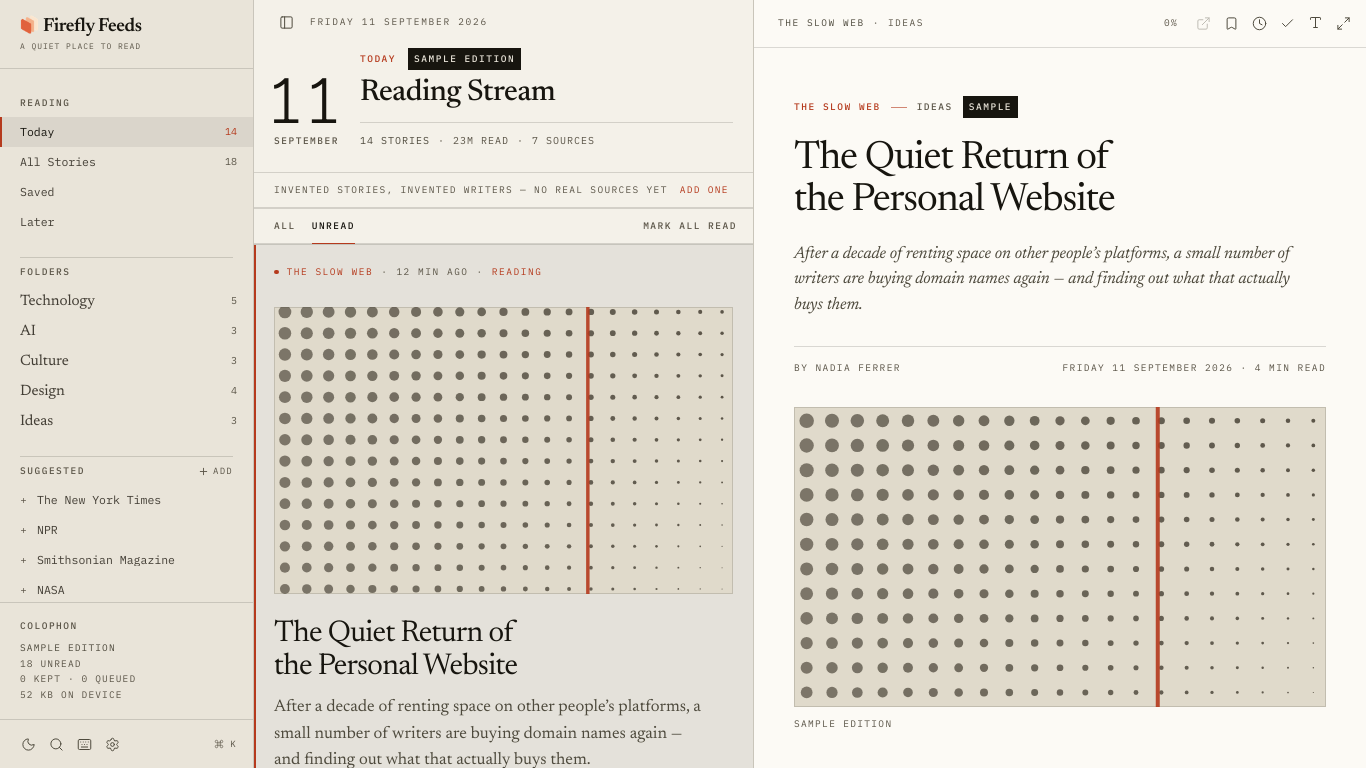
Test: article classification › asks a local Ollama directly from a deployed page, and says so when CORS stops it
Expected: the heading "Reading Stream" is shown, [360,78,555,108]
Click the button named "Settings". click: (112, 744)
box: [100,732,124,756]
(page scrolled)
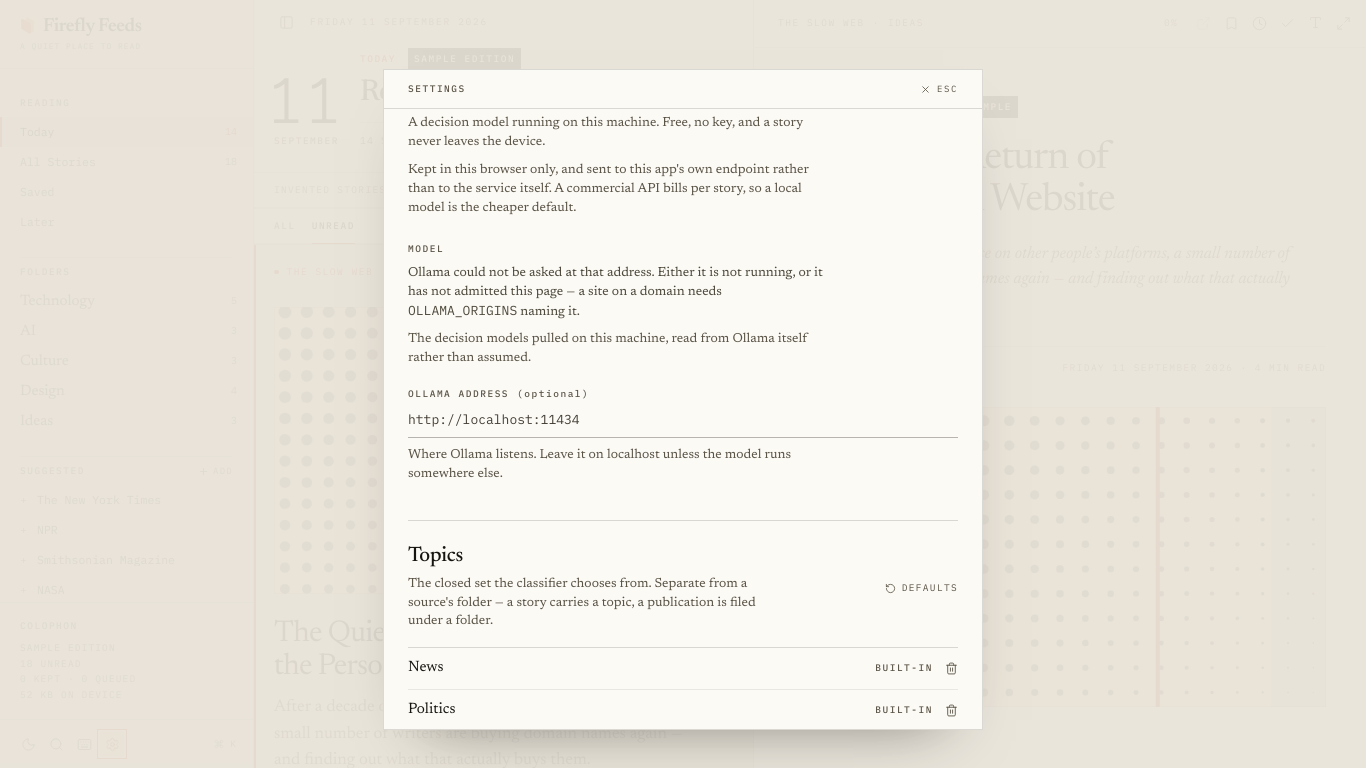
Expected: the text "Ollama could not be asked" is shown, [408,266,823,298]
Expected: the text "OLLAMA_ORIGINS" is shown, [408,302,517,319]
Type "http://127.0.0.1:11434" into the field labelled "Ollama address(optional)". click: (683, 419)
box: [408,410,958,429]
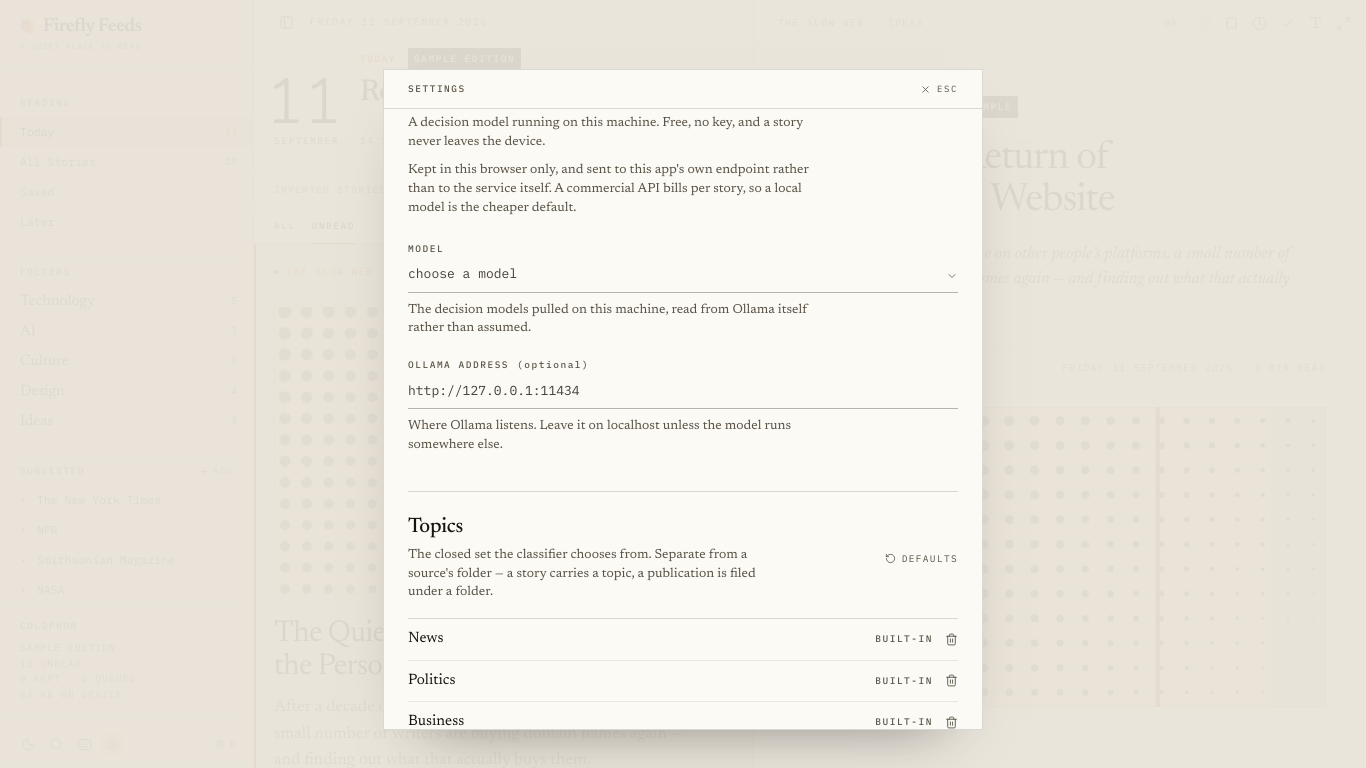
Expected: the text "Ollama could not be asked" is gone
